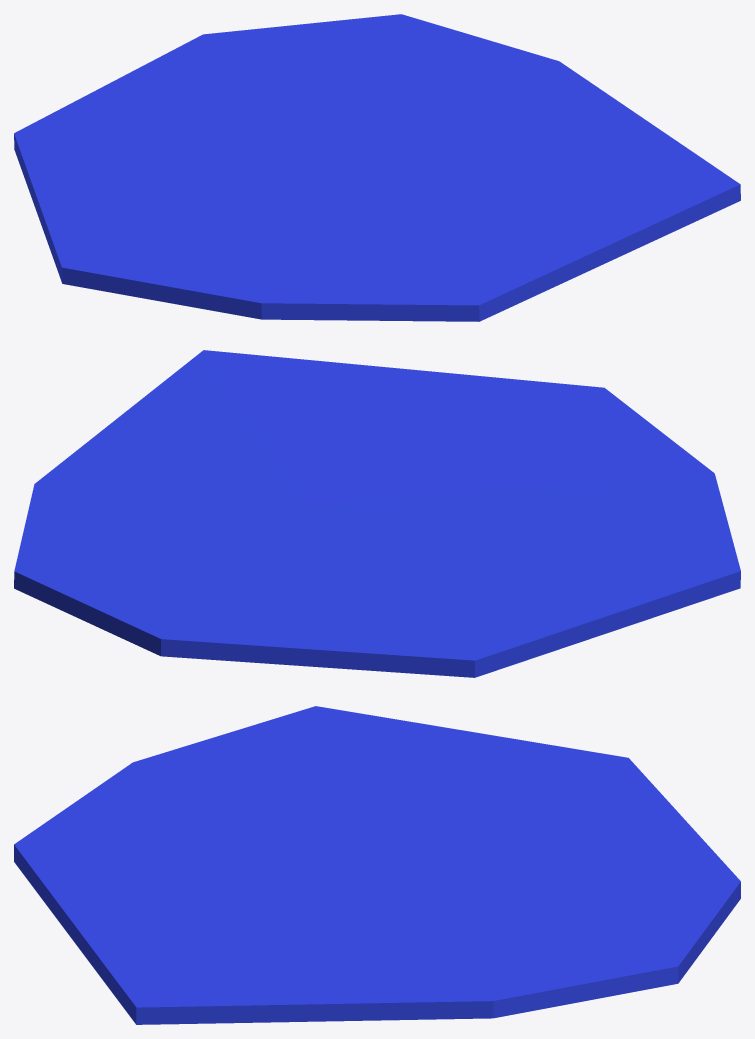
Rendered from dziura3.fbx.
The picture shows the model from 3 angles, top to bottom: view 1: azimuth 30°, elevation 25°; view 2: azimuth 150°, elevation 25°; view 3: azimuth 270°, elevation 25°; orthographic projection. The views are drawn at different scales.
Visible parts, largest first — view 1: Cylinder.018; view 2: Cylinder.018; view 3: Cylinder.018.
Part boxes in pixels (x1=…): Cylinder.018: x1=14, y1=14, x2=740, y2=321; Cylinder.018: x1=14, y1=350, x2=740, y2=677; Cylinder.018: x1=14, y1=706, x2=740, y2=1024.
Bounding box in the file's own units: 1.41 × 0.0422 × 1.43.
